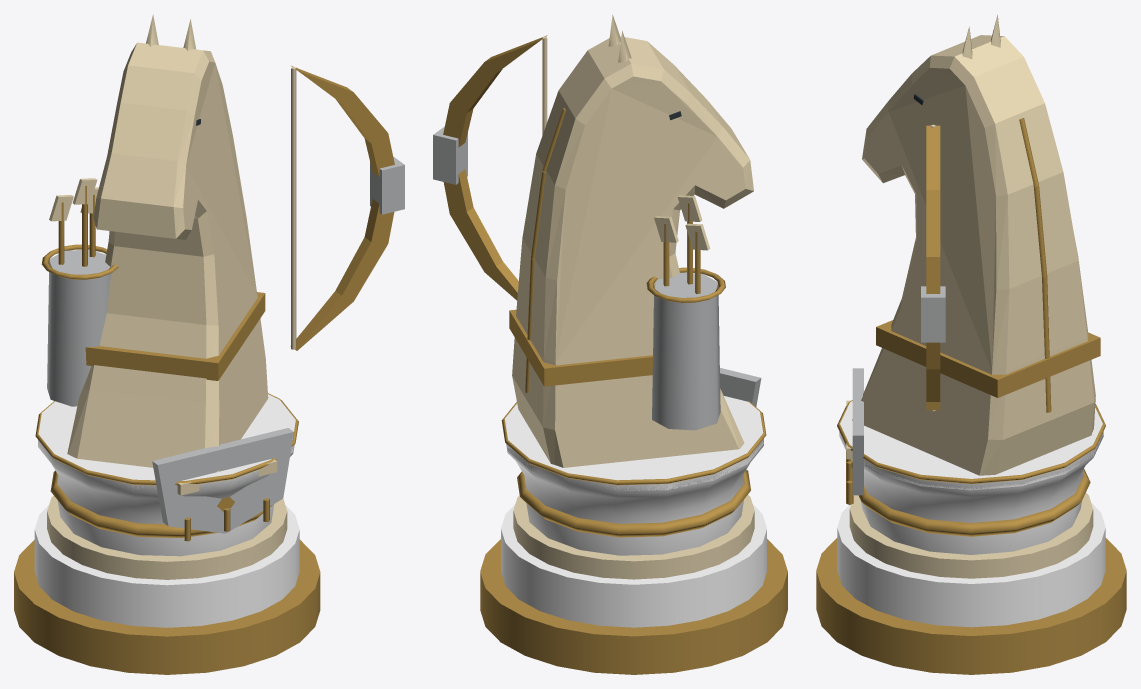
Rendered from keshig.glb.
3 renders of one model, left to right at view 1: azimuth 30°, elevation 25°; view 2: azimuth 150°, elevation 25°; view 3: azimuth 270°, elevation 25°, orthographic.
Parts seen in each view (by area): view 1: Continuous ivory knight bust, Trim plinth, Enamel base, Low enamel knight seat, Steppe saddlecloth, Small enamel quiver, Ivory base bead, Curved gilt bow, Solid enamel socket, Trim chest band, Trim seat bead, Taut ivory bowstring (+3 smaller); view 2: Continuous ivory knight bust, Trim plinth, Enamel base, Low enamel knight seat, Small enamel quiver, Ivory base bead, Solid enamel socket, Curved gilt bow, Trim seat bead, Trim chest band, Gilt socket rim, Enamel bow grip (+3 smaller); view 3: Continuous ivory knight bust, Trim plinth, Enamel base, Low enamel knight seat, Ivory base bead, Solid enamel socket, Trim chest band, Curved gilt bow, Trim seat bead, Gilt socket rim, Steppe saddlecloth, Enamel bow grip (+2 smaller).
Boxes of the visible parts, x1=… form: Continuous ivory knight bust: x1=67, y1=42, x2=268, y2=472; Trim plinth: x1=14, y1=539, x2=320, y2=674; Enamel base: x1=34, y1=505, x2=299, y2=627; Low enamel knight seat: x1=38, y1=440, x2=294, y2=556; Steppe saddlecloth: x1=152, y1=428, x2=293, y2=533; Small enamel quiver: x1=47, y1=249, x2=111, y2=406; Ivory base bead: x1=47, y1=495, x2=287, y2=579; Curved gilt bow: x1=290, y1=66, x2=394, y2=350; Solid enamel socket: x1=38, y1=394, x2=295, y2=490; Trim chest band: x1=85, y1=292, x2=265, y2=380; Trim seat bead: x1=50, y1=470, x2=272, y2=538; Taut ivory bowstring: x1=291, y1=67, x2=296, y2=349; Continuous ivory knight bust: x1=512, y1=36, x2=753, y2=467; Trim plinth: x1=480, y1=539, x2=787, y2=674; Enamel base: x1=501, y1=504, x2=766, y2=627; Low enamel knight seat: x1=506, y1=439, x2=763, y2=555; Small enamel quiver: x1=652, y1=272, x2=720, y2=430; Ivory base bead: x1=513, y1=495, x2=754, y2=579; Solid enamel socket: x1=505, y1=396, x2=763, y2=491; Curved gilt bow: x1=443, y1=35, x2=547, y2=300; Trim seat bead: x1=517, y1=470, x2=750, y2=537; Trim chest band: x1=509, y1=309, x2=652, y2=386; Gilt socket rim: x1=501, y1=401, x2=766, y2=485; Enamel bow grip: x1=433, y1=126, x2=467, y2=184; Continuous ivory knight bust: x1=852, y1=35, x2=1095, y2=475; Trim plinth: x1=816, y1=538, x2=1126, y2=674; Enamel base: x1=837, y1=502, x2=1105, y2=627; Low enamel knight seat: x1=839, y1=433, x2=1103, y2=554; Ivory base bead: x1=849, y1=493, x2=1093, y2=578; Solid enamel socket: x1=839, y1=401, x2=1103, y2=490; Trim chest band: x1=876, y1=320, x2=1100, y2=397; Curved gilt bow: x1=926, y1=125, x2=940, y2=410; Trim seat bead: x1=858, y1=469, x2=1090, y2=536; Gilt socket rim: x1=837, y1=400, x2=1105, y2=484; Steppe saddlecloth: x1=852, y1=368, x2=863, y2=495; Enamel bow grip: x1=921, y1=286, x2=945, y2=342.
Bounding box in the file's own units: 0.6106 × 0.9912 × 0.4689.
